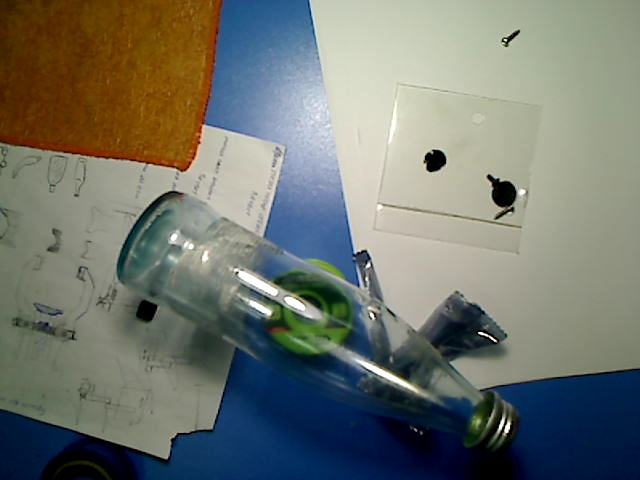bottle: (117, 191, 519, 453)
